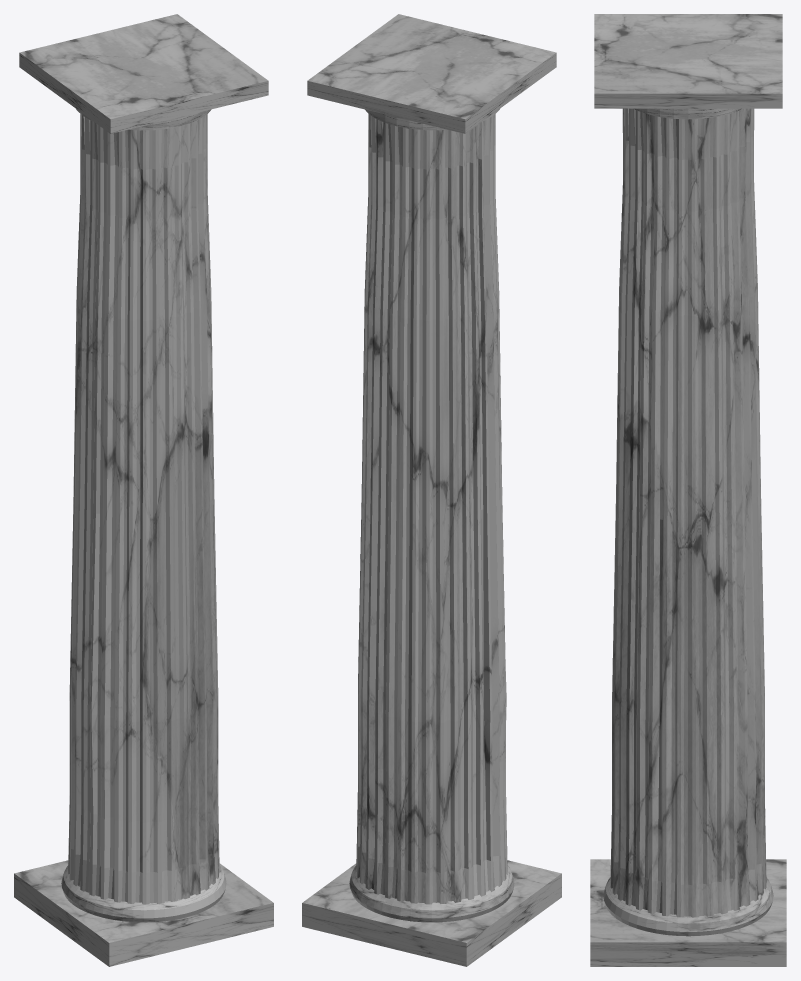
Rendered from column.obj.
3 renders of one model, left to right at view 1: azimuth 30°, elevation 25°; view 2: azimuth 150°, elevation 25°; view 3: azimuth 270°, elevation 25°, orthographic. The views are drawn at different scales.
Visible parts, largest first — view 1: Cylinder; view 2: Cylinder; view 3: Cylinder.
Boxes of the visible parts, x1,y1,x2,y2 form: Cylinder: (14, 14, 273, 966); Cylinder: (302, 14, 561, 966); Cylinder: (590, 14, 786, 966).
Size of the model in its own units: 2.97 by 14.58 by 2.97.
1 material, 1 textured.
